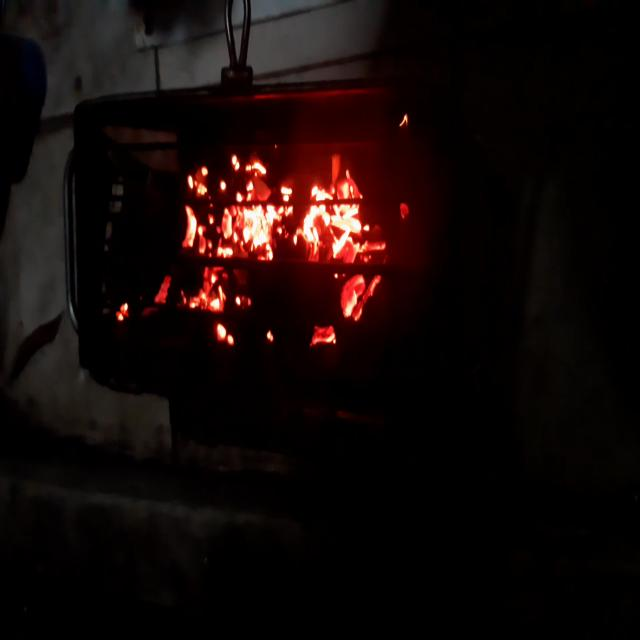Fire: (100, 140, 444, 370)
